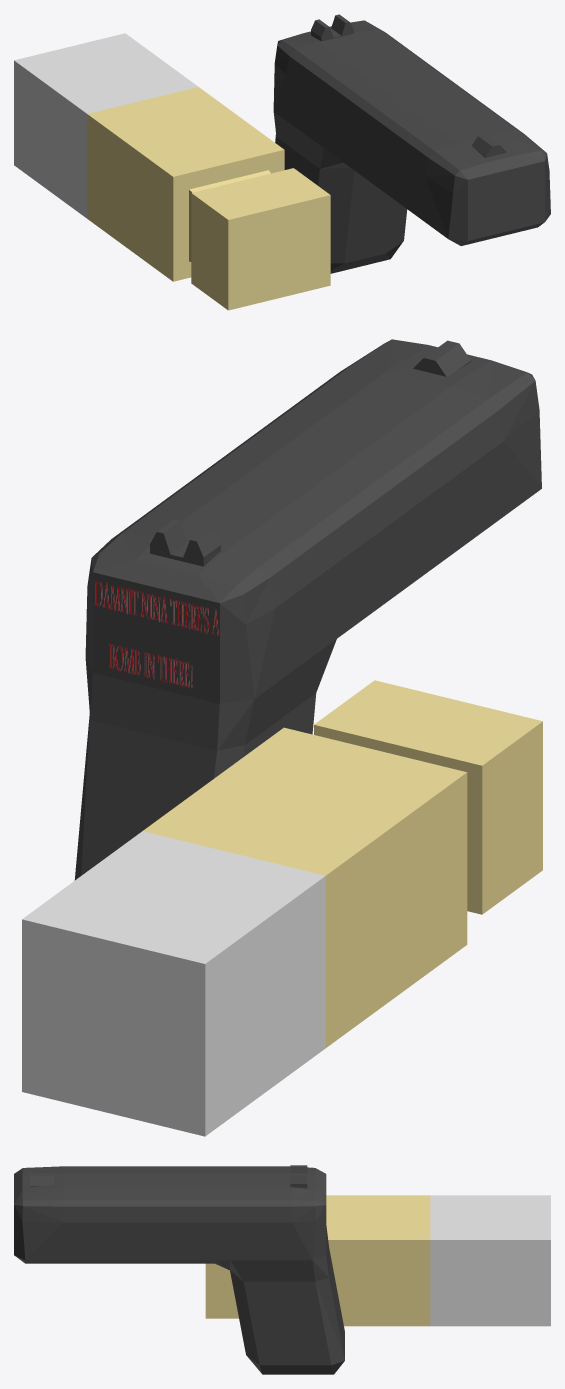
File: pistol3.obj
3 renders of one model, top to bottom at view 1: azimuth 30°, elevation 25°; view 2: azimuth 150°, elevation 25°; view 3: azimuth 270°, elevation 25°, orthographic. The views are drawn at different scales.
Visible parts, largest first — view 1: cube5, Pistol; view 2: cube5, Pistol; view 3: Pistol, cube5.
Boxes of the visible parts, box(x1,y1,x2,y2) form: cube5: box(14, 33, 330, 310); Pistol: box(273, 14, 550, 273); cube5: box(22, 680, 542, 1136); Pistol: box(74, 339, 541, 880); Pistol: box(14, 1165, 344, 1374); cube5: box(205, 1195, 550, 1326).
Size of the model in its own units: 15.63 by 15.84 by 40.61.
Materials: 4 (4 with a texture image).
